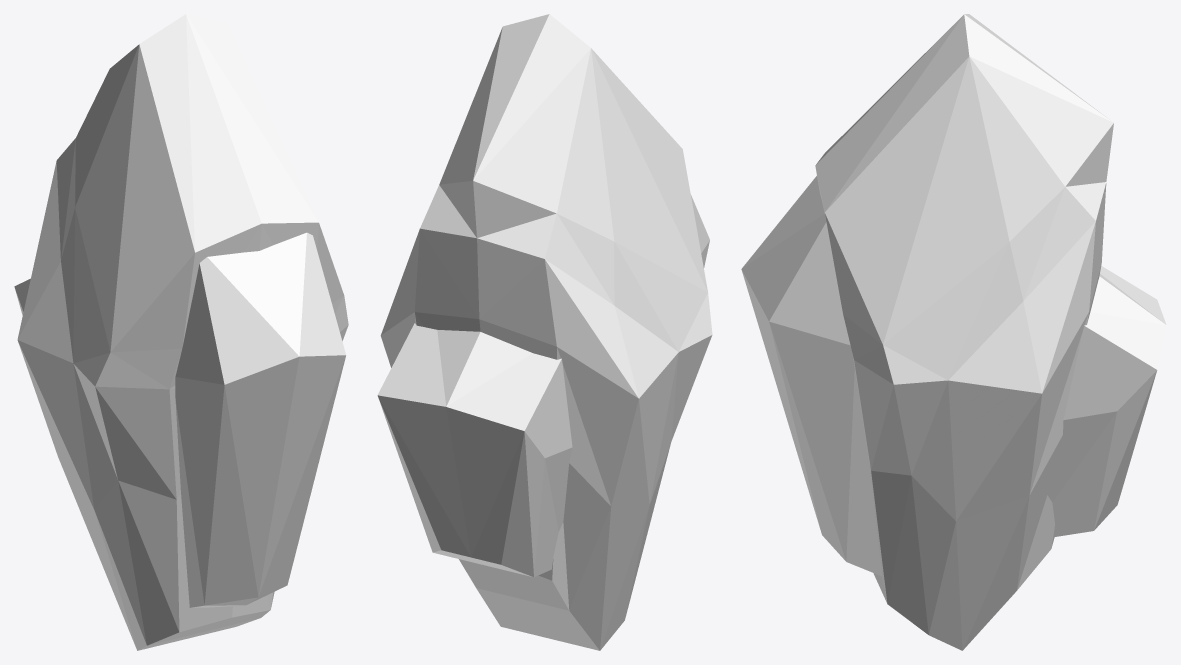
File: crystal.obj
3 renders of one model, left to right at view 1: azimuth 30°, elevation 25°; view 2: azimuth 150°, elevation 25°; view 3: azimuth 270°, elevation 25°, orthographic. The views are drawn at different scales.
Parts seen in each view (by area): view 1: crystal_Plane; view 2: crystal_Plane; view 3: crystal_Plane.
Part boxes in pixels (left/top/right/bottom): crystal_Plane: left=14, top=14, right=348, bottom=650; crystal_Plane: left=377, top=14, right=712, bottom=650; crystal_Plane: left=741, top=14, right=1166, bottom=650.
Bounding box in the file's own units: 2.1 × 4.85 × 3.05.
